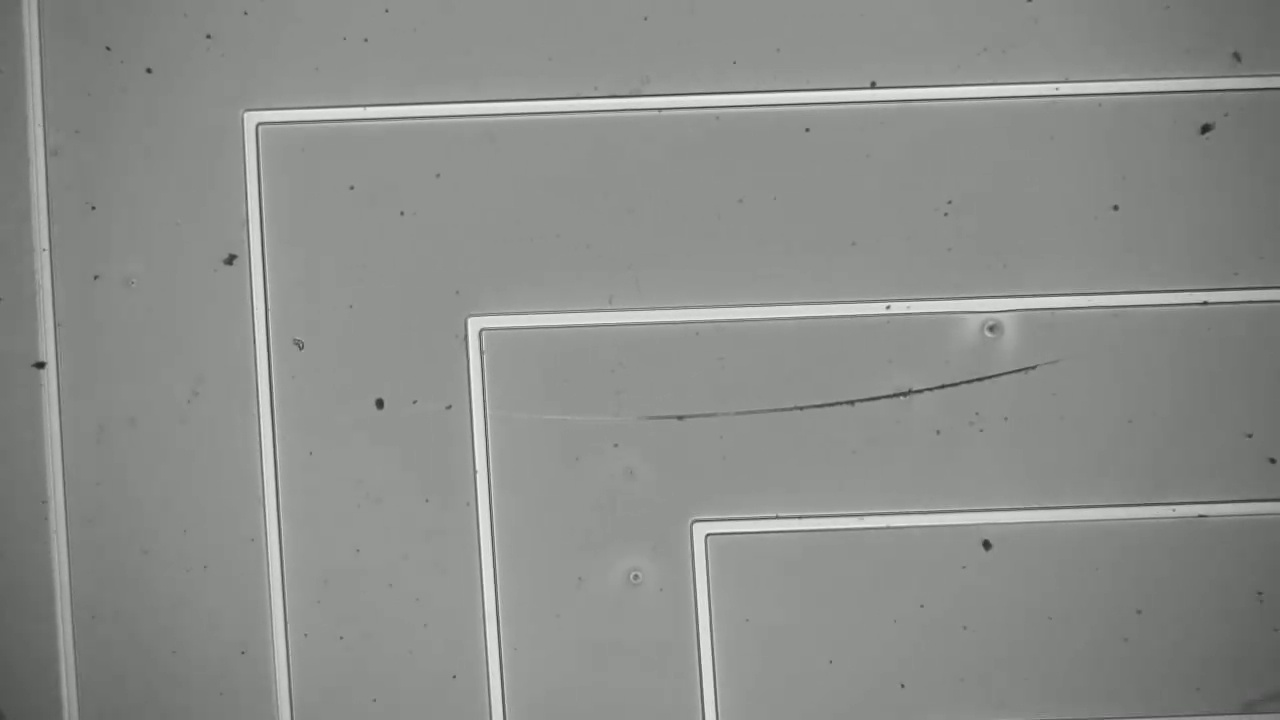scratch: (632, 353, 1062, 449)
stains_enbedded: (17, 342, 78, 386)
